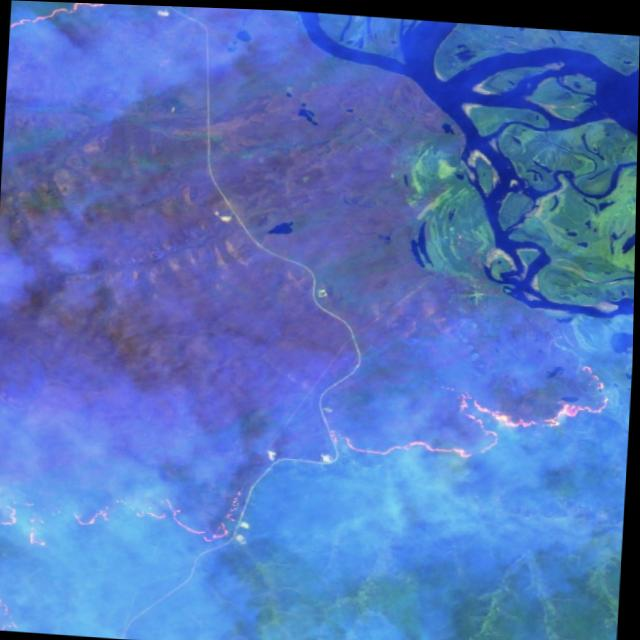fire: (0, 300, 633, 611)
